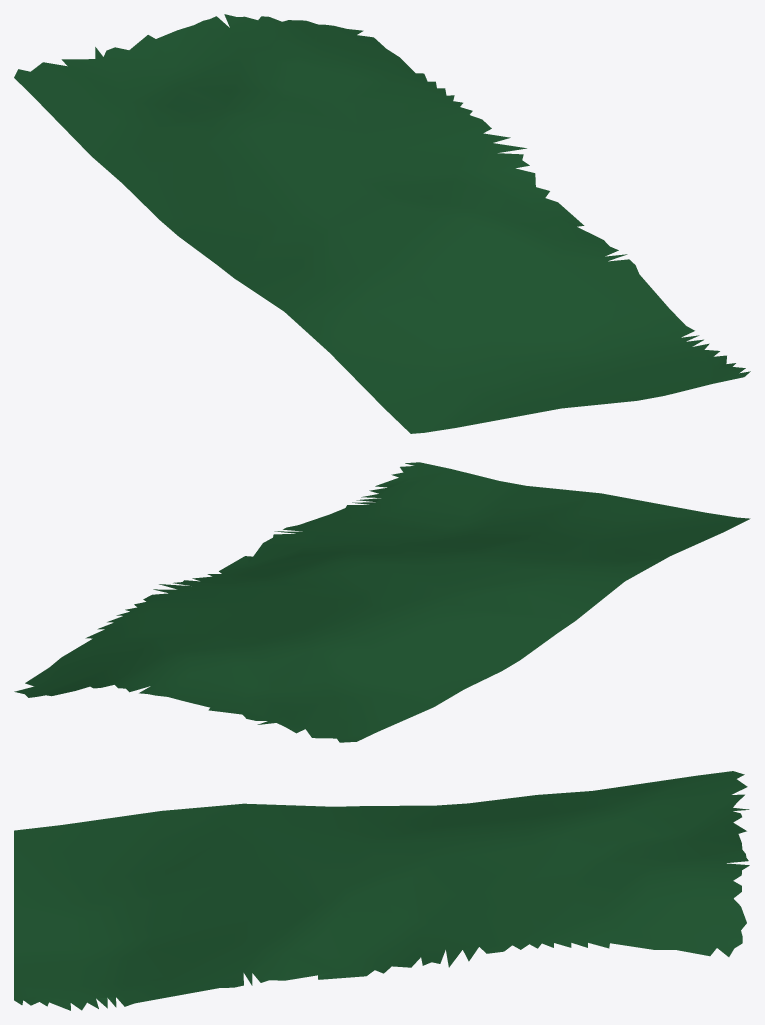
File: payo_land_x4_y2_lod2.glb
3 views of the same model, one above another, from view 1: azimuth 30°, elevation 25°; view 2: azimuth 150°, elevation 25°; view 3: azimuth 270°, elevation 25° (orthographic). The views are drawn at different scales.
Parts seen in each view (by area): view 1: payo_land_x4_y2; view 2: payo_land_x4_y2; view 3: payo_land_x4_y2.
Part boxes in pixels (x1=…): payo_land_x4_y2: x1=14, y1=14, x2=750, y2=433; payo_land_x4_y2: x1=14, y1=462, x2=750, y2=742; payo_land_x4_y2: x1=14, y1=771, x2=749, y2=1010.
Size of the model in its own units: 132 by 34.89 by 260.
